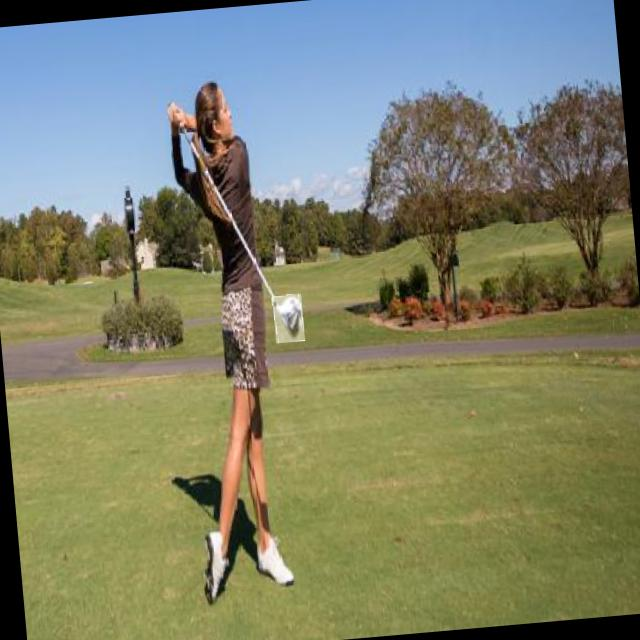club head: (272, 294, 304, 344)
